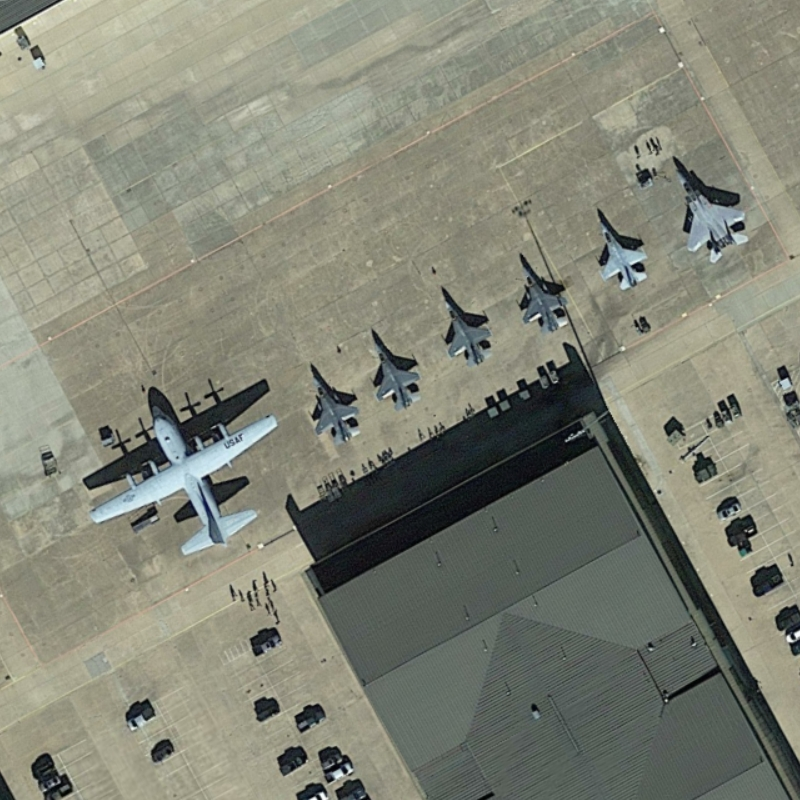A13: (669, 153, 754, 268)
A2: (79, 402, 286, 566)
A5: (582, 209, 660, 300), (506, 246, 579, 338), (360, 328, 433, 417), (293, 362, 367, 447), (431, 289, 499, 371)
